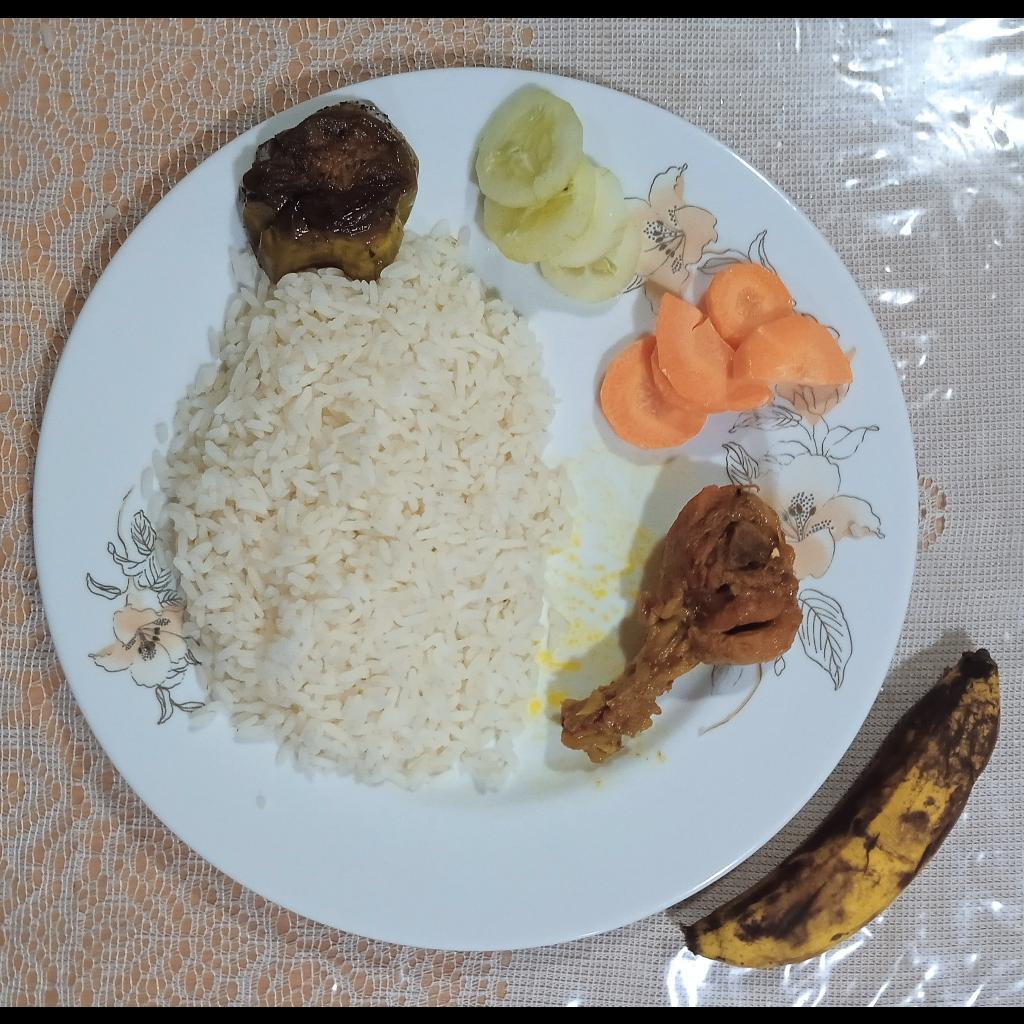banana: (686, 644, 1000, 971)
begun-vaji: (238, 98, 420, 281)
carrot: (599, 261, 855, 450)
chicken: (558, 483, 805, 769)
cucumber: (473, 88, 637, 301)
rice: (143, 213, 580, 808)
